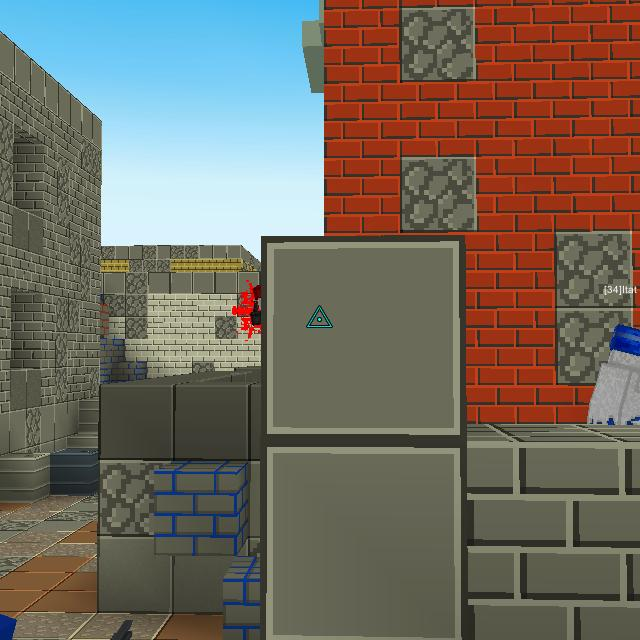enemy: (249, 284, 262, 328)
